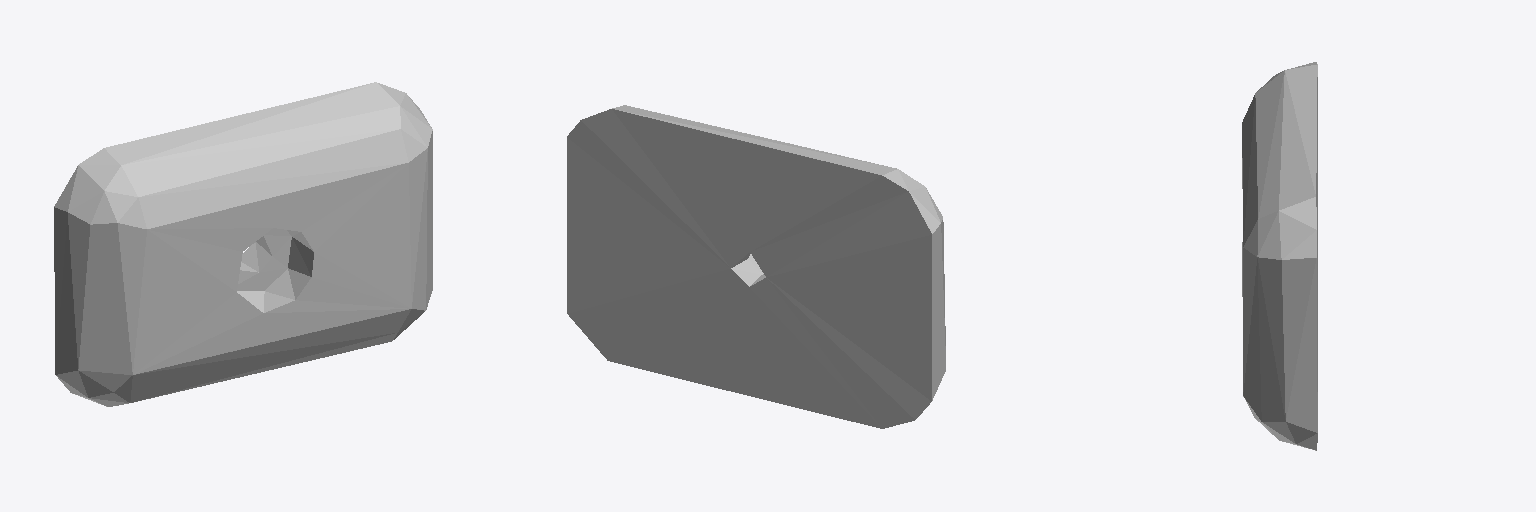
The model's file is weight_middle_up.obj.
3 views of the same model, side by side, from view 1: azimuth 30°, elevation 25°; view 2: azimuth 150°, elevation 25°; view 3: azimuth 270°, elevation 25° (orthographic).
Parts seen in each view (by area): view 1: wieght_middle_up; view 2: wieght_middle_up; view 3: wieght_middle_up.
Boxes of the visible parts, <box> form: wieght_middle_up: <box>54,82,432,406</box>; wieght_middle_up: <box>567,105,945,428</box>; wieght_middle_up: <box>1242,62,1317,450</box>.
Size of the model in its own units: 0.0572 by 0.0379 by 0.0102.